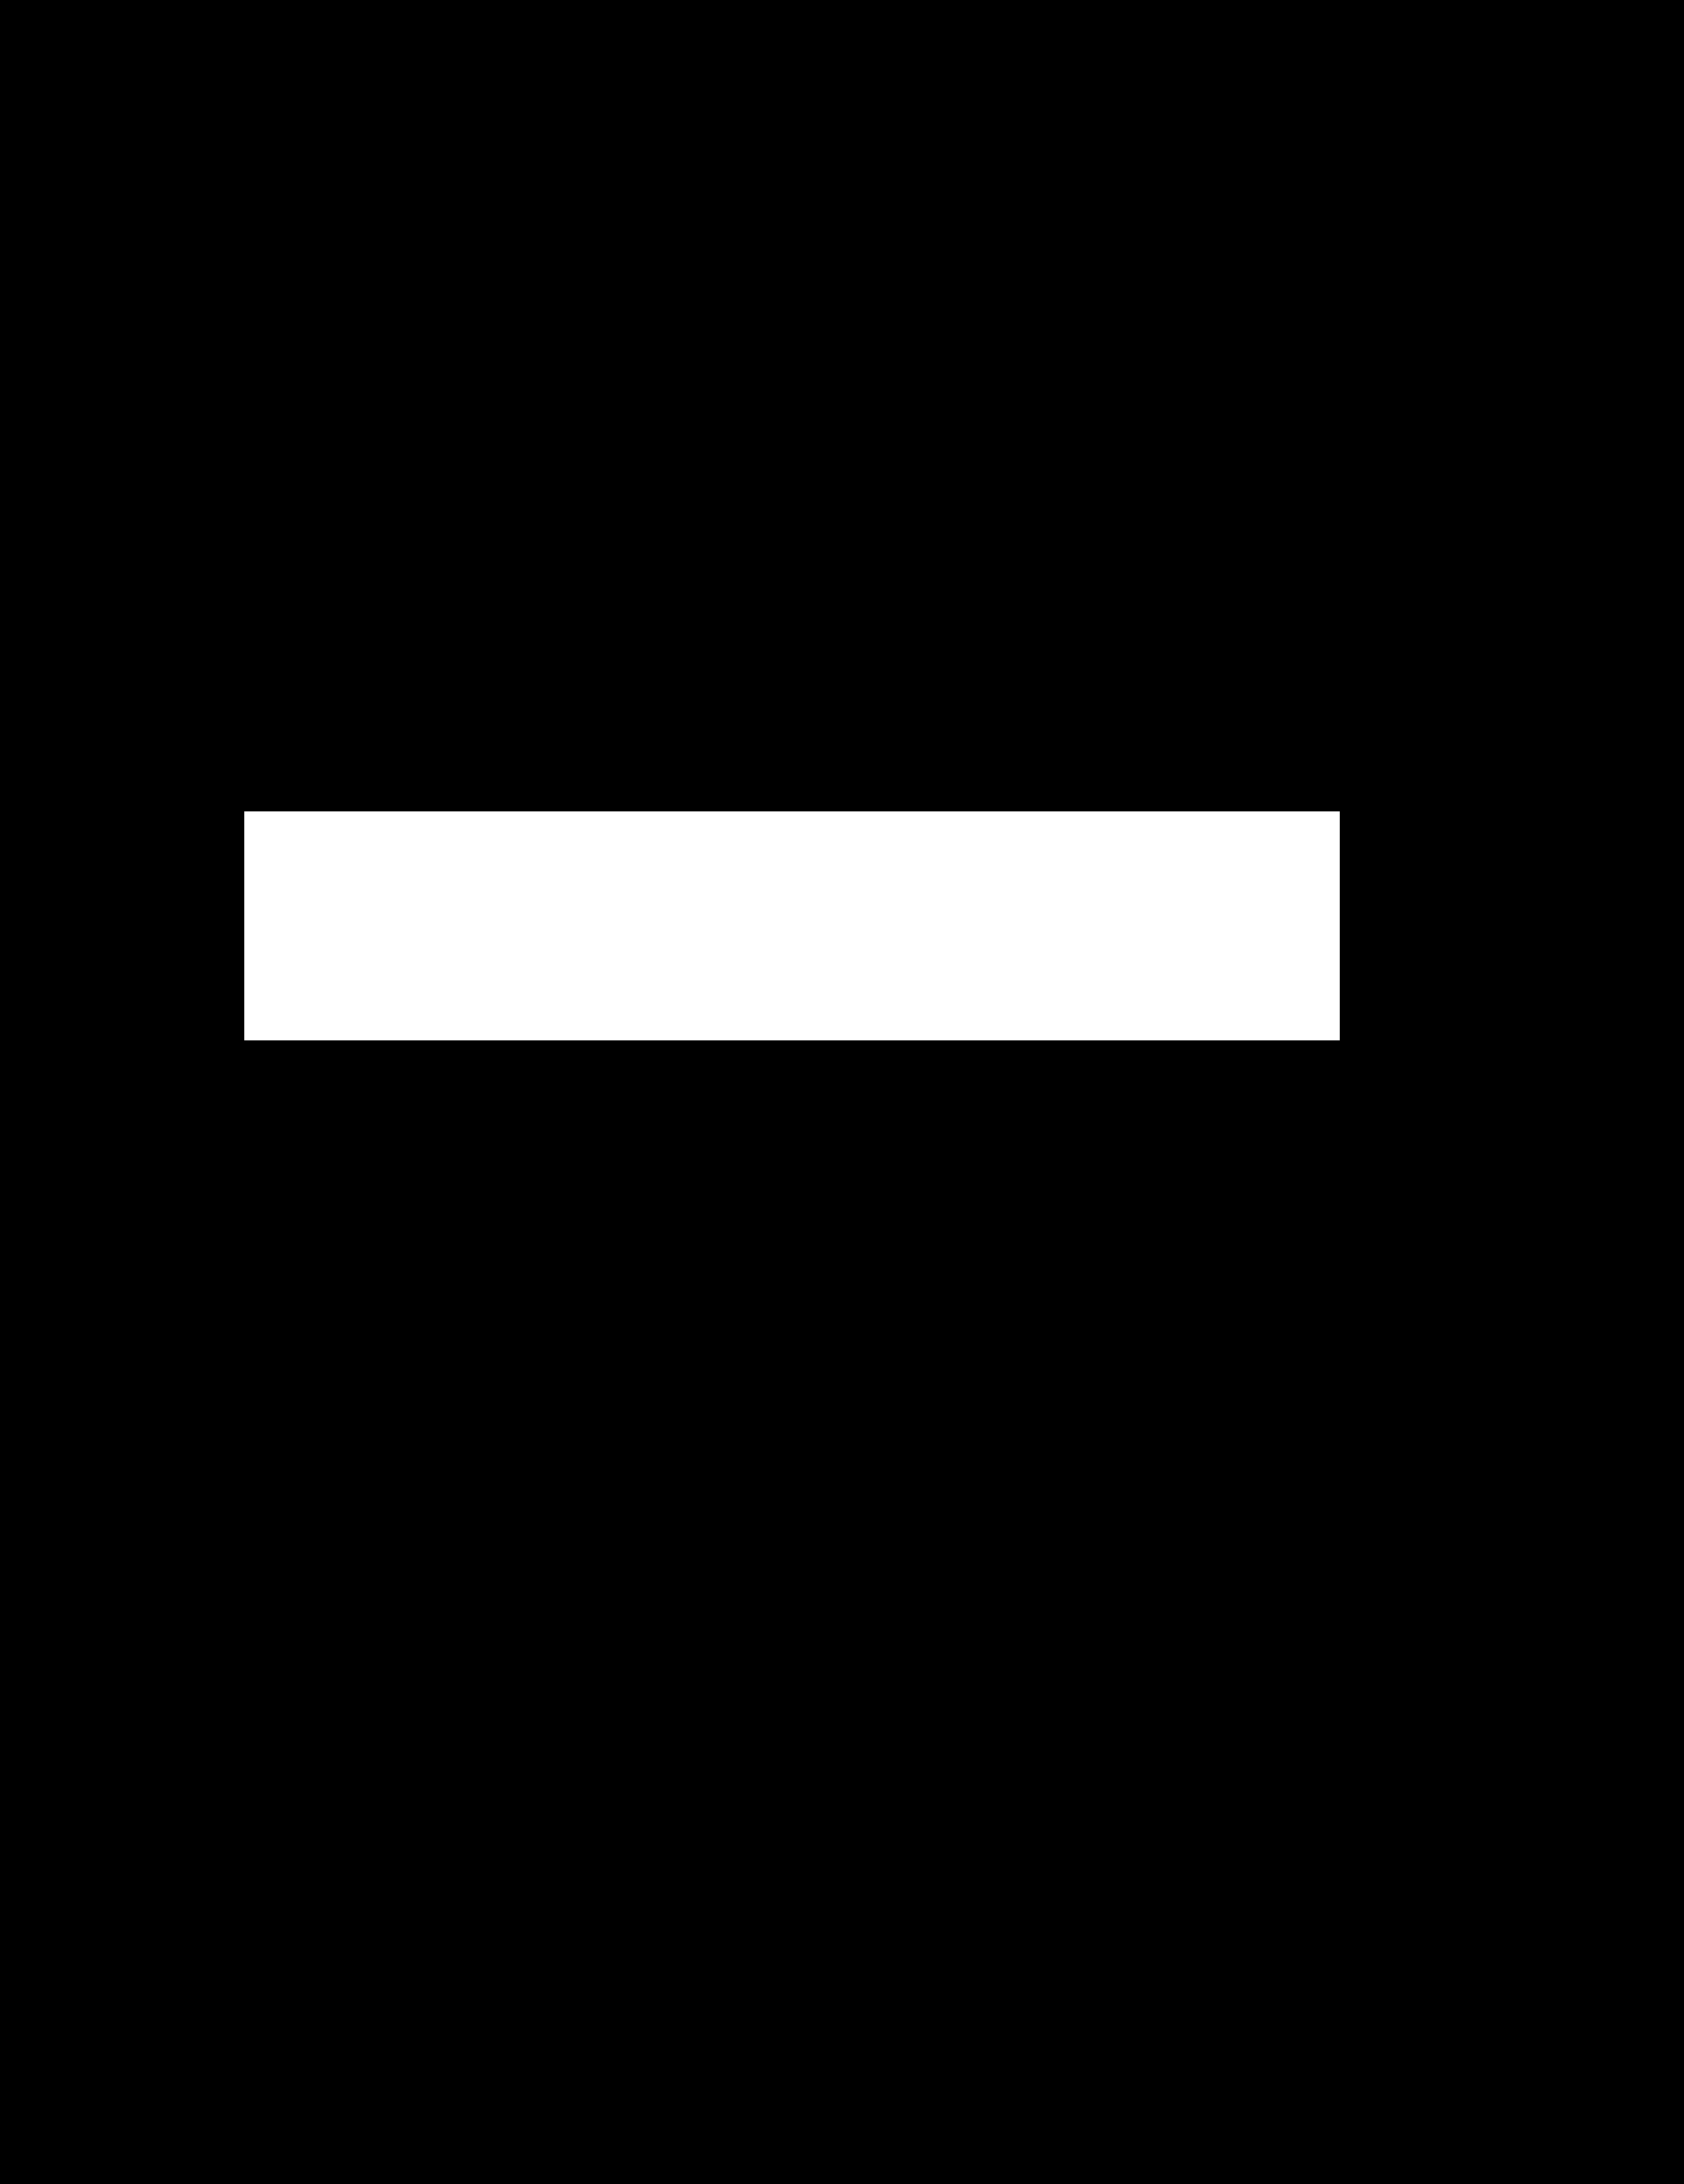table: (244, 812, 1339, 1040)
